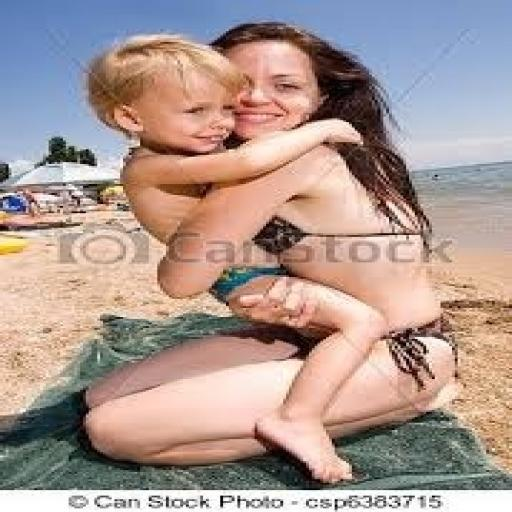hugging: (74, 22, 460, 485)
